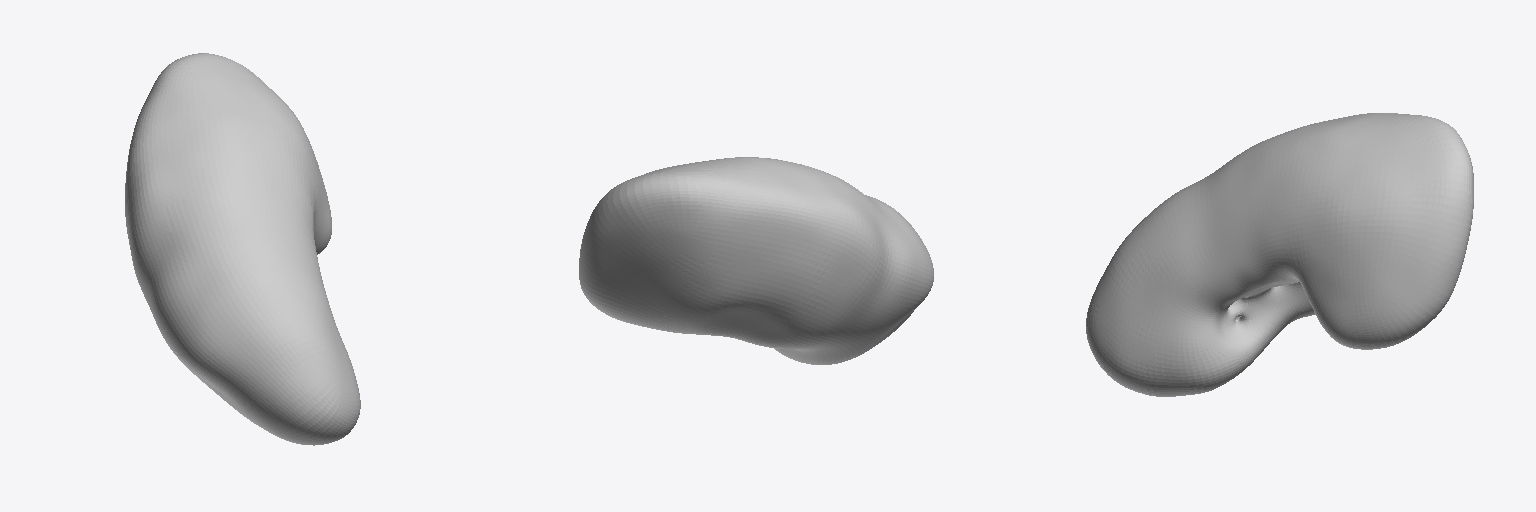
File: 30K_Kidney_Left.OBJ
3 renders of one model, left to right at view 1: azimuth 30°, elevation 25°; view 2: azimuth 150°, elevation 25°; view 3: azimuth 270°, elevation 25°, orthographic.
Parts seen in each view (by area): view 1: ZBrushPolyMesh3D; view 2: ZBrushPolyMesh3D; view 3: ZBrushPolyMesh3D.
Part boxes in pixels (left/top/right/bottom): ZBrushPolyMesh3D: left=125, top=53, right=360, bottom=445; ZBrushPolyMesh3D: left=579, top=157, right=933, bottom=364; ZBrushPolyMesh3D: left=1086, top=113, right=1473, bottom=396.
Size of the model in its own units: 9.32 by 10.14 by 13.1.